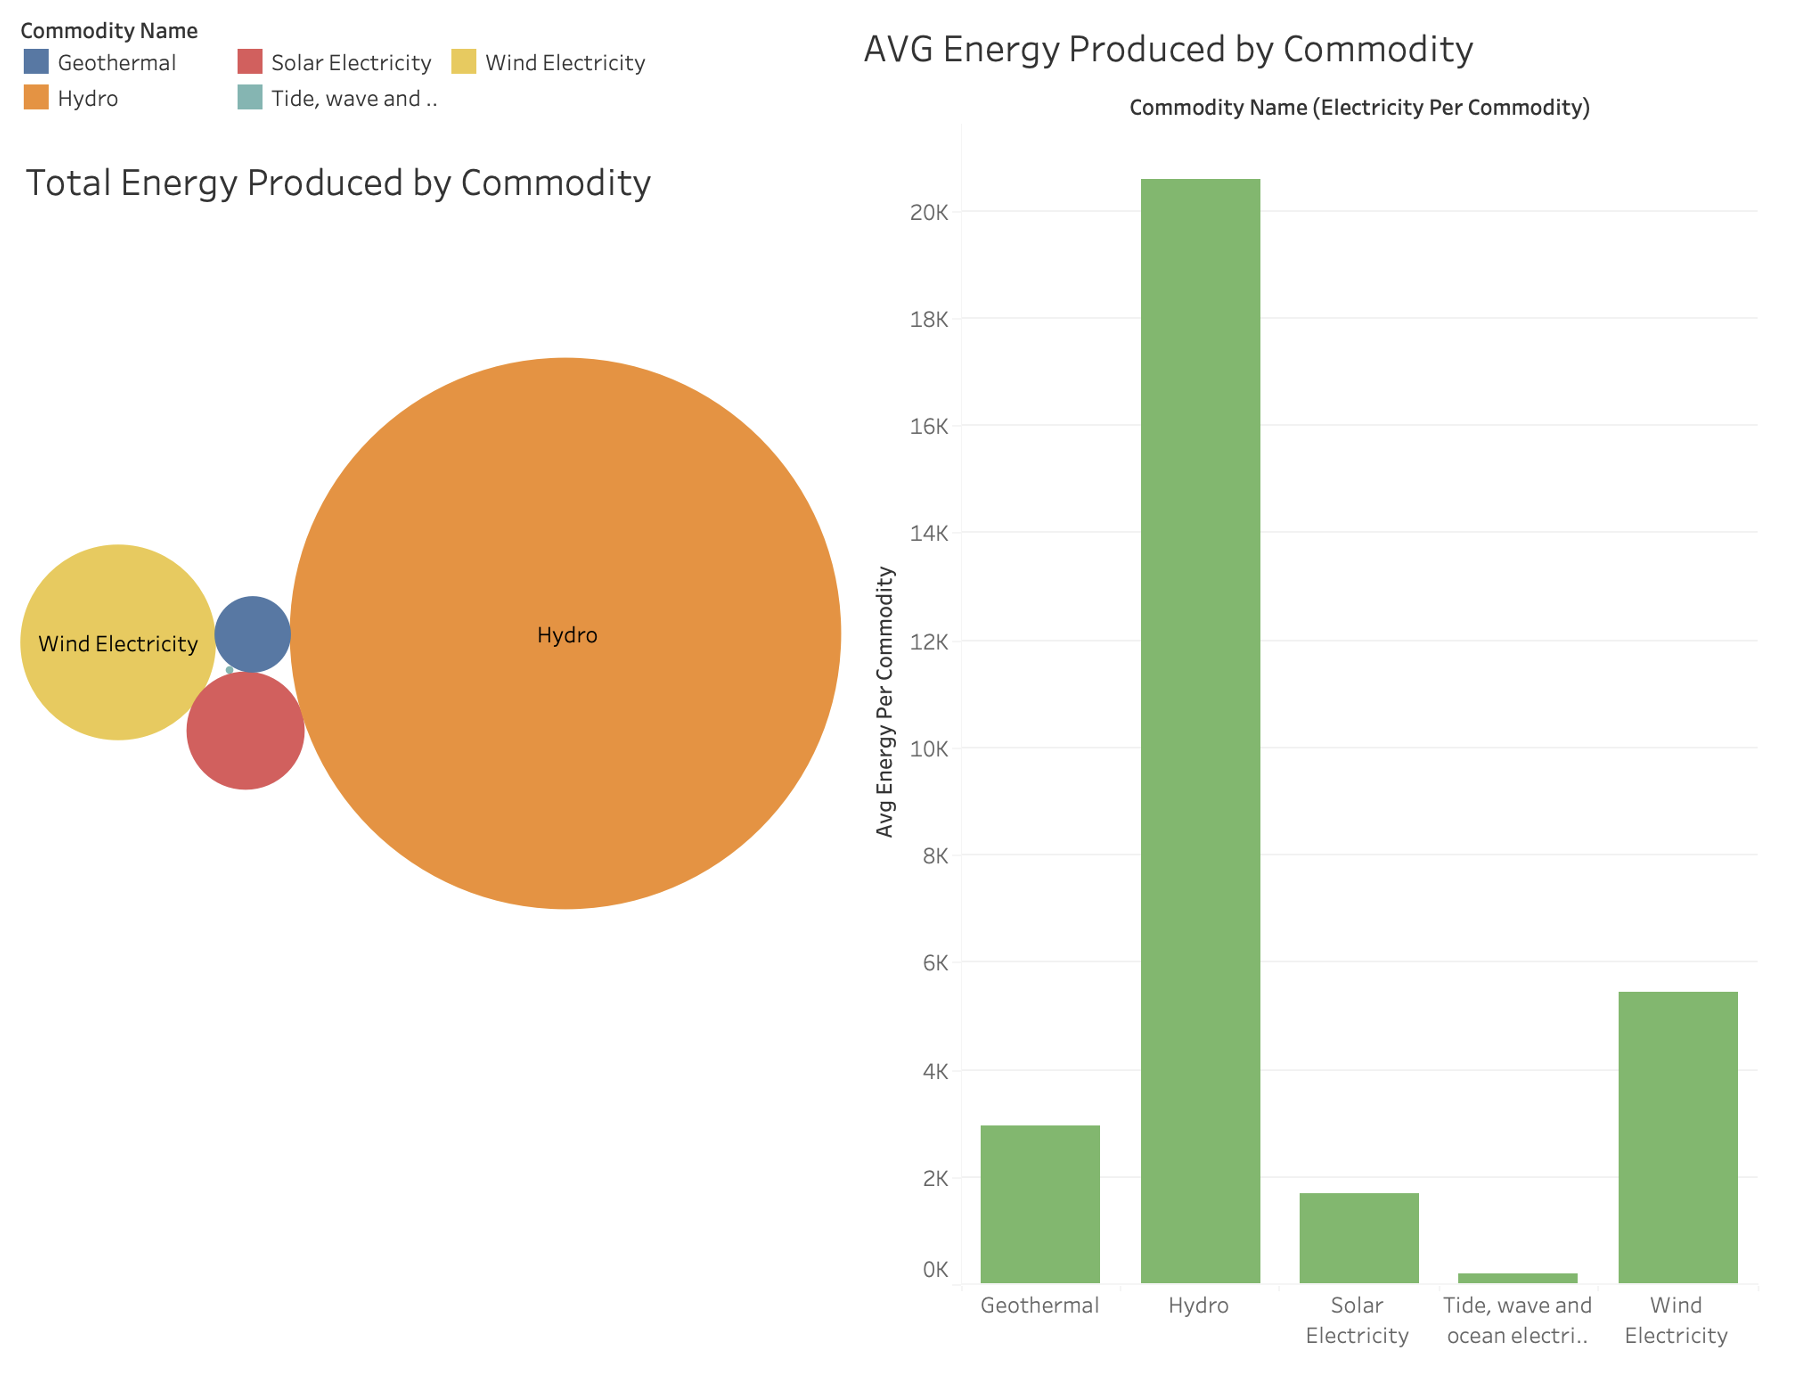

Layout of this report page (visuals, bound fields, positions):
{"tool":"tableau","page":{"name":"1_ODS_7.2.1","canvas":[1000,800],"ordinal":0},"visuals":[{"type":"legend","title":"Sheet 1","param":"[federated.1miehs20nfe72e1g3rj4q0lleh6e].[none:commodity_name:nk]","box":[8,8,470,75]},{"type":"worksheet","title":"Sheet 2","mark":"Automatic","rows":["avg_energy_per_commodity"],"cols":["commodity_name (electricity_per_commodity)"],"box":[478,8,514,762]},{"type":"worksheet","title":"Sheet 1","mark":"Circle","box":[8,83,470,709]},{"type":"legend","title":"Sheet 2","param":"[federated.1miehs20nfe72e1g3rj4q0lleh6e].[:Measure Names]","box":[478,770,514,22]}]}

Visuals, with their boxes on the page's 1000x800 design canvas (x1, y1, x2, y2). These are canvas units, not pixel positions in the 1798x1380 screenshot, which may show the page scaled, cropped or inside an application window:
"Sheet 1" legend: (8,8,478,83)
"Sheet 2" worksheet: (478,8,992,770)
"Sheet 1" worksheet (Circle marks): (8,83,478,792)
"Sheet 2" legend: (478,770,992,792)
